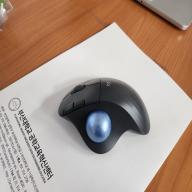mouse: (58, 75, 152, 156)
